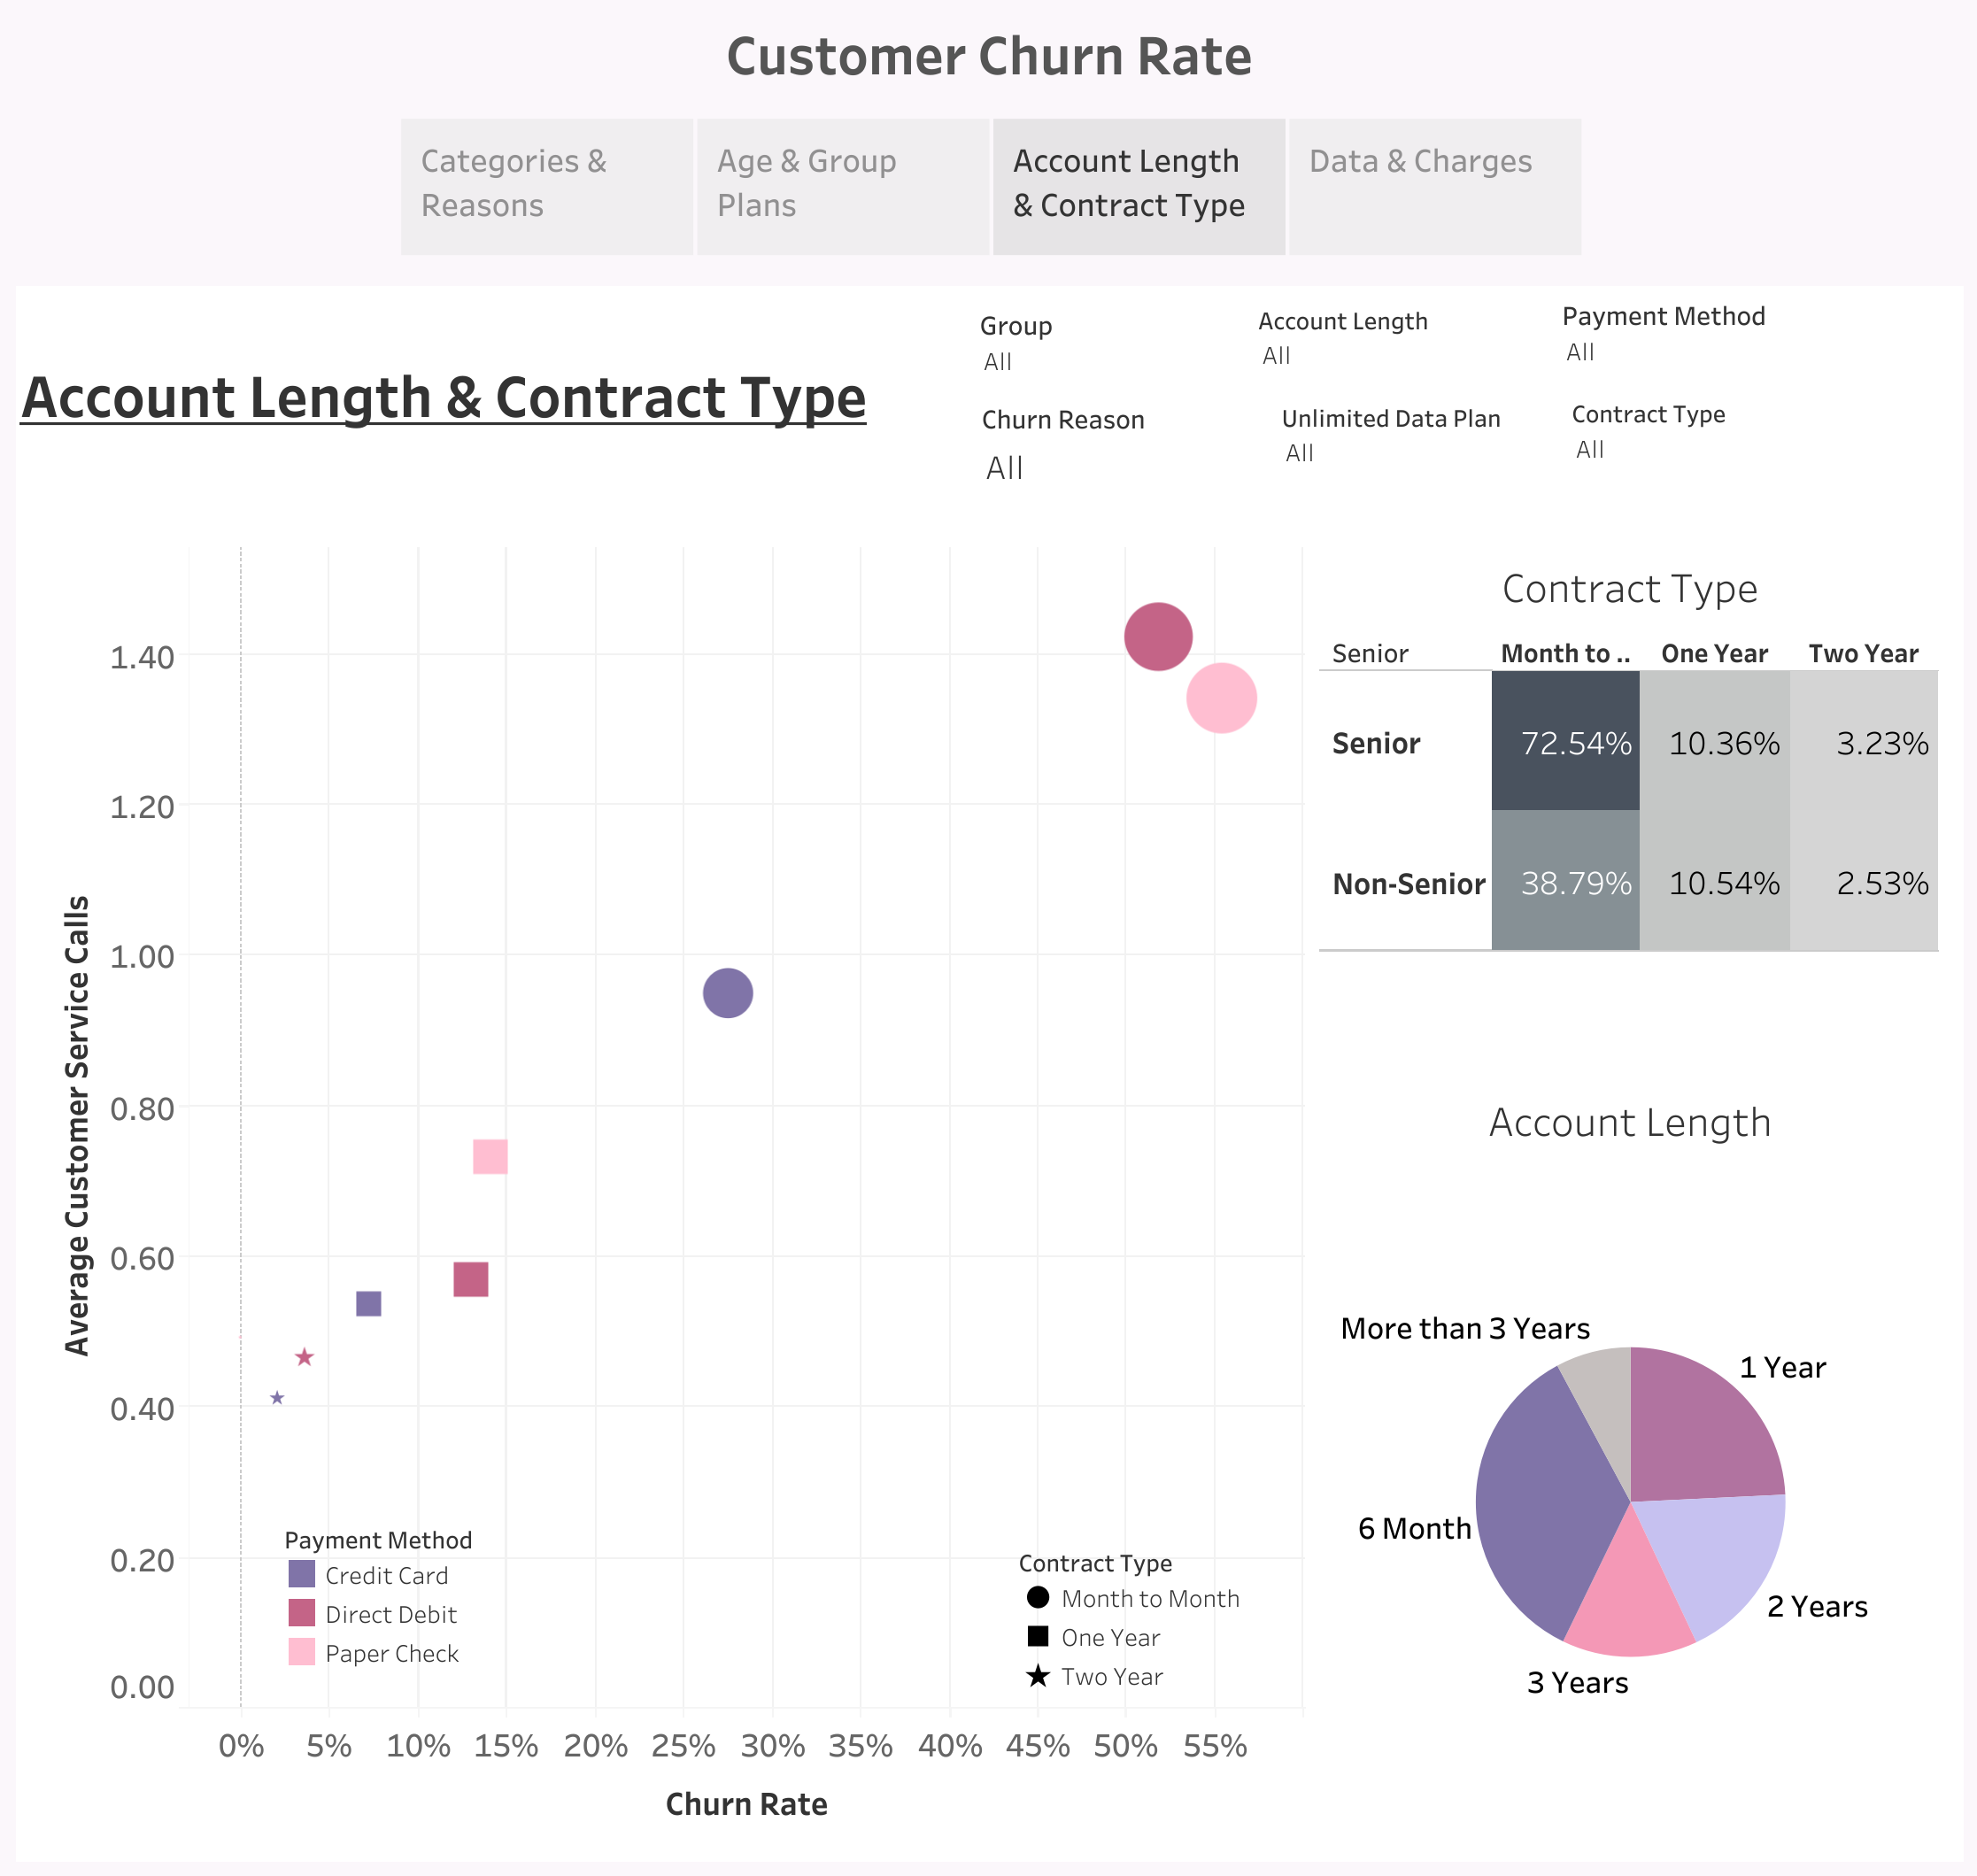

This screenshot's page, from the dashboard's own definition file:
{"tool":"tableau","page":{"name":"AccountLength & Contract Type","canvas":[1000,1000],"units":"permille","ordinal":0},"visuals":[{"type":"filter","title":"Customer Service Calls-Payment","param":"[federated.0ec1ye81p13lyy1en51lk16zfsb8].[none:Payment Method:nk]","box":[793.9,4.6,122.2,59]},{"type":"filter","title":"Customer Service Calls-Payment","param":"[federated.0ec1ye81p13lyy1en51lk16zfsb8].[none:Calculation_1712634546598289408:n","box":[638.2,9.2,127.2,65.9]},{"type":"filter","title":"Customer Service Calls-Payment","param":"[federated.0ec1ye81p13lyy1en51lk16zfsb8].[none:Group:nk]","box":[494.7,11.6,116.6,52]},{"type":"filter","title":"Customer Service Calls-Payment","param":"[federated.0ec1ye81p13lyy1en51lk16zfsb8].[none:Contract Type:nk]","box":[798.9,68.2,115.9,60.1]},{"type":"filter","title":"Senior","param":"[federated.0ec1ye81p13lyy1en51lk16zfsb8].[none:Churn Reason:nk]","box":[496.1,70.5,118,59]},{"type":"filter","title":"Customer Service Calls-Payment","param":"[federated.0ec1ye81p13lyy1en51lk16zfsb8].[none:Unlimited Data Plan:nk]","box":[650.3,70.5,116.6,60.1]},{"type":"worksheet","title":"Customer Service Calls-Payment","mark":"Automatic","rows":["Customer Service Calls"],"cols":["Calculation_6796917050756022275"],"box":[5.6,160.7,661,830.1]},{"type":"worksheet","title":"Senior","mark":"Square","rows":["Senior"],"cols":["Contract Type"],"box":[666.7,160.7,327.7,338.7]},{"type":"worksheet","title":"Account Length","mark":"Pie","box":[666.7,499.4,327.7,491.3]},{"type":"legend","title":"Customer Service Calls-Payment","param":"[federated.0ec1ye81p13lyy1en51lk16zfsb8].[none:Payment Method:nk]","box":[137.2,781.5,113.7,114.5]},{"type":"legend","title":"Customer Service Calls-Payment","param":"[federated.0ec1ye81p13lyy1en51lk16zfsb8].[none:Contract Type:nk]","box":[513.9,796.5,125.8,101.7]}]}

Visuals, with their boxes on the dashboard's canvas, which has no fixed pixel size, in thousandths of its width and height (x1, y1, x2, y2). These are canvas units, not pixel positions in the 1977x1876 screenshot, which may show the page scaled, cropped or inside an application window:
"Customer Service Calls-Payment" filter: 794,5,916,64
"Customer Service Calls-Payment" filter: 638,9,765,75
"Customer Service Calls-Payment" filter: 495,12,611,64
"Customer Service Calls-Payment" filter: 799,68,915,128
"Senior" filter: 496,70,614,130
"Customer Service Calls-Payment" filter: 650,70,767,131
"Customer Service Calls-Payment" worksheet: 6,161,667,991
"Senior" worksheet (Square marks): 667,161,994,499
"Account Length" worksheet (Pie marks): 667,499,994,991
"Customer Service Calls-Payment" legend: 137,782,251,896
"Customer Service Calls-Payment" legend: 514,796,640,898
